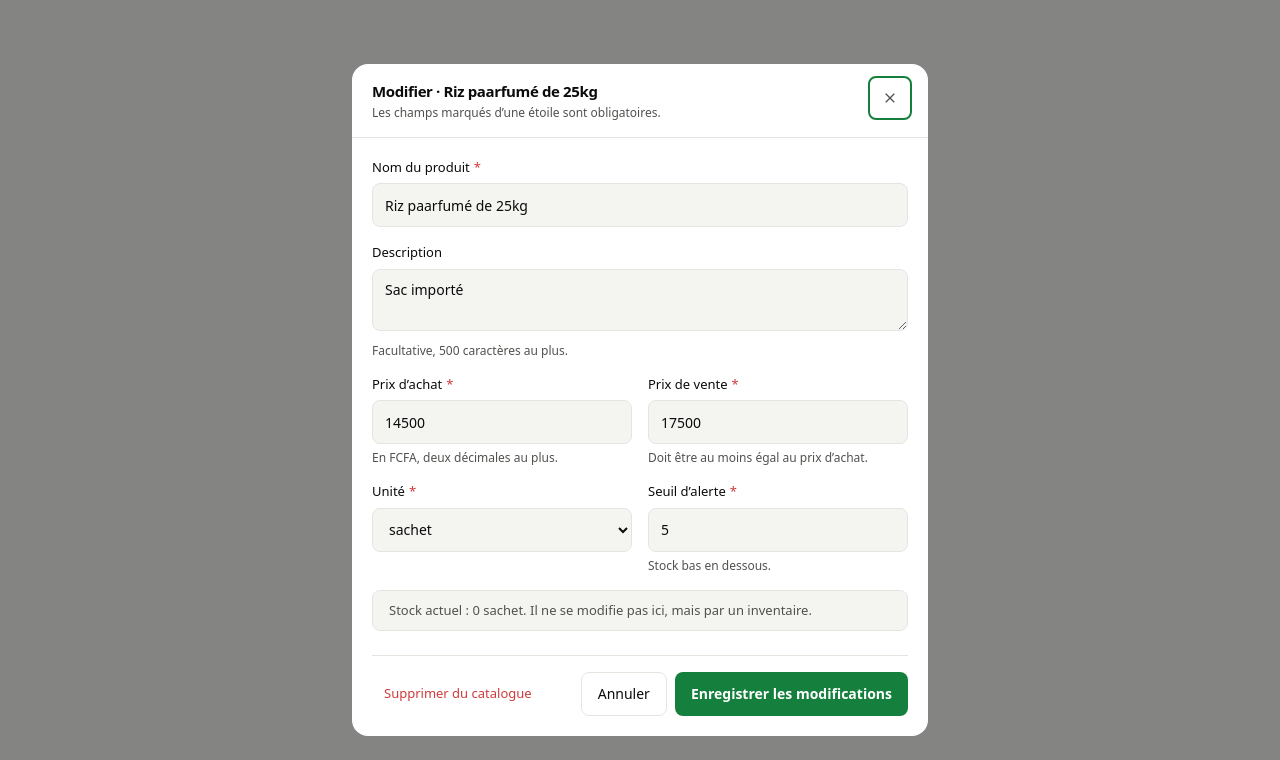
it: retrait d'un produit du catalogue › ne parle pas de valorisation quand le stock est vide
Click the button "Supprimer du catalogue" at (458, 694), box x1=372 y1=672 x2=544 y2=716
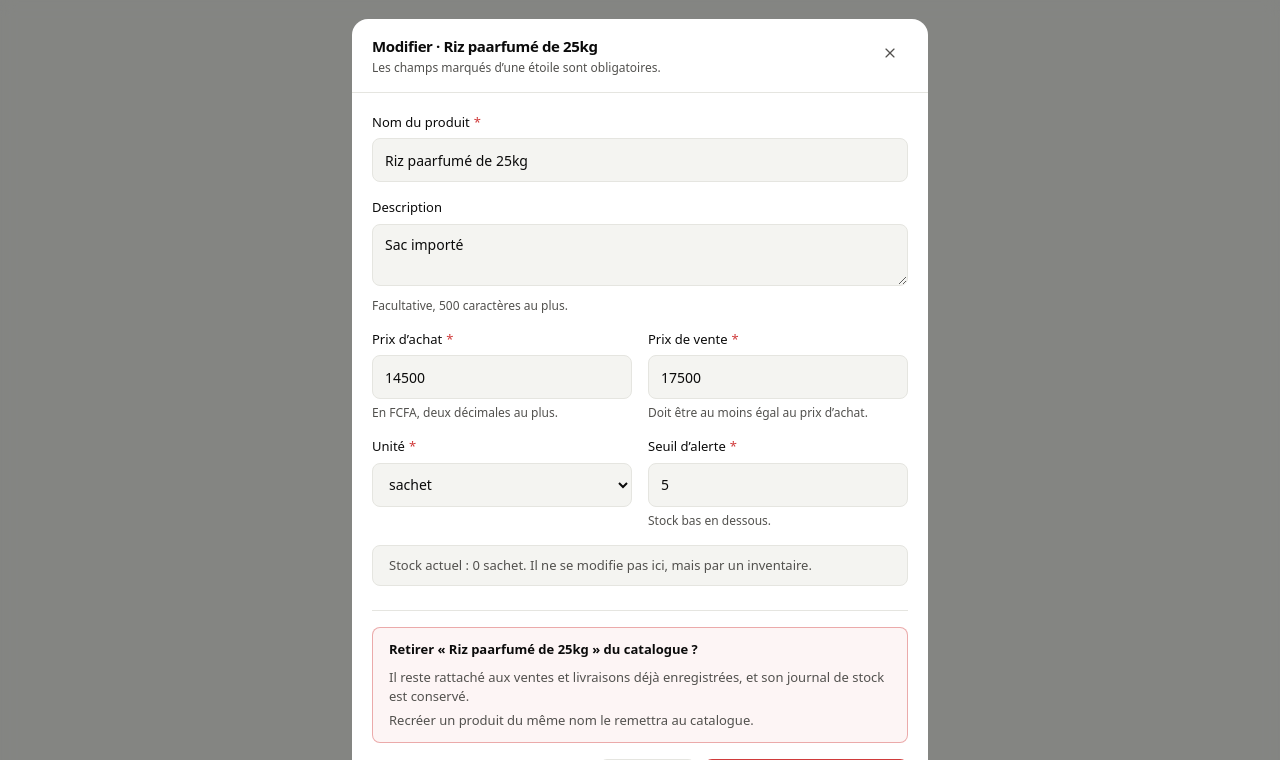
Check: the text "Retirer « Riz paarfumé de 25kg » du catalogue ?" is shown, box x1=389 y1=640 x2=698 y2=658
